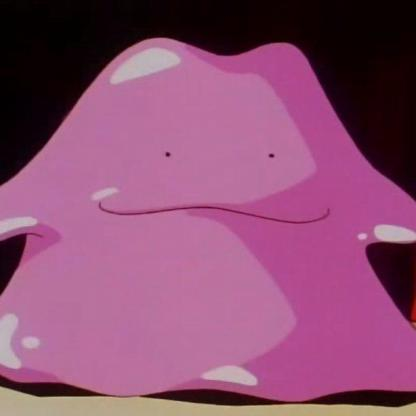Ditto: (1, 1, 416, 402)
